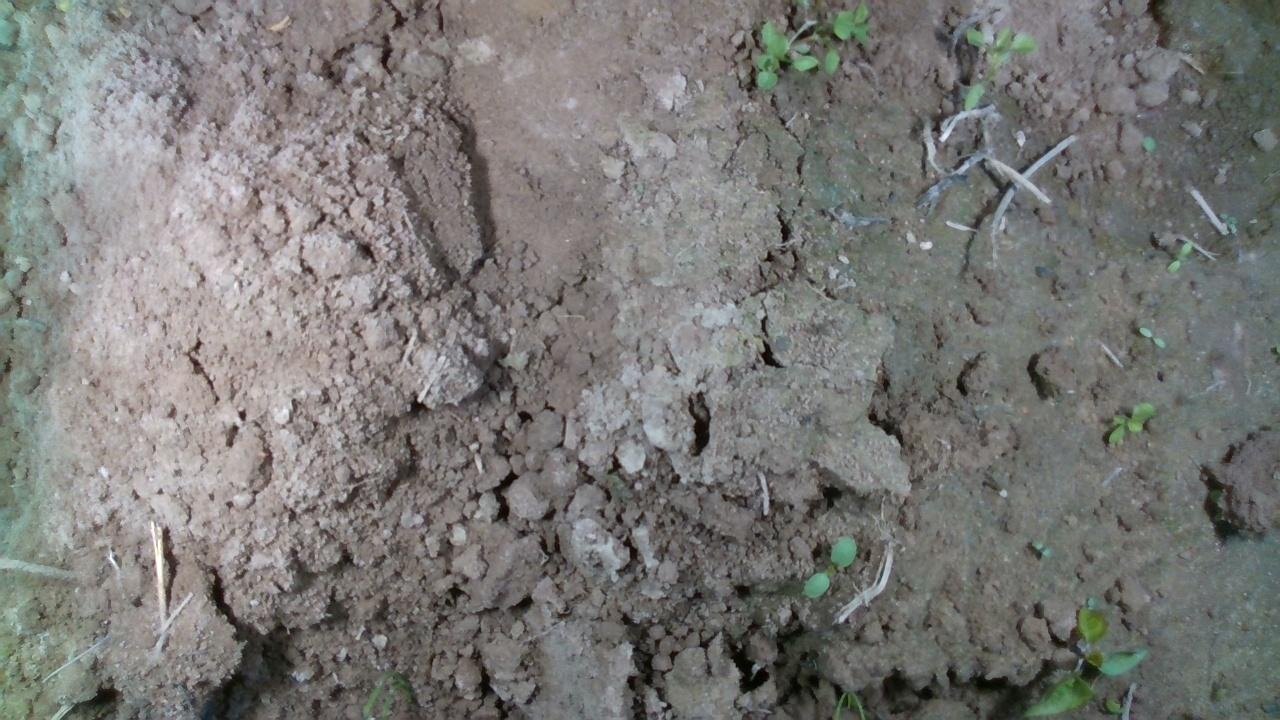weed: (801, 534, 856, 600), (1104, 400, 1158, 445), (1165, 237, 1192, 273), (1137, 324, 1166, 349), (1216, 210, 1240, 228)
